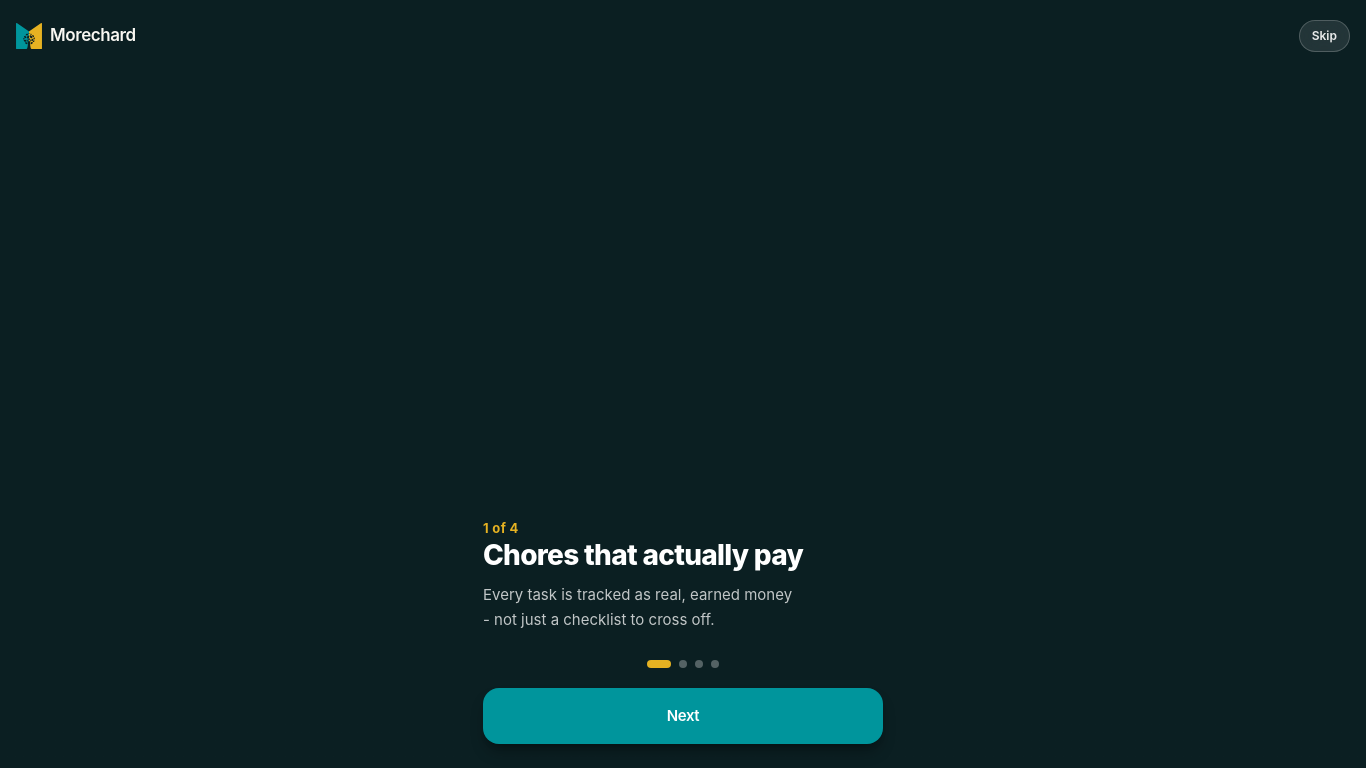
it: OnboardingCarousel › shows "Get Started" instead of "Next" on the final slide
Click the button "Next" at (683, 716), box 483,688 -> 883,744
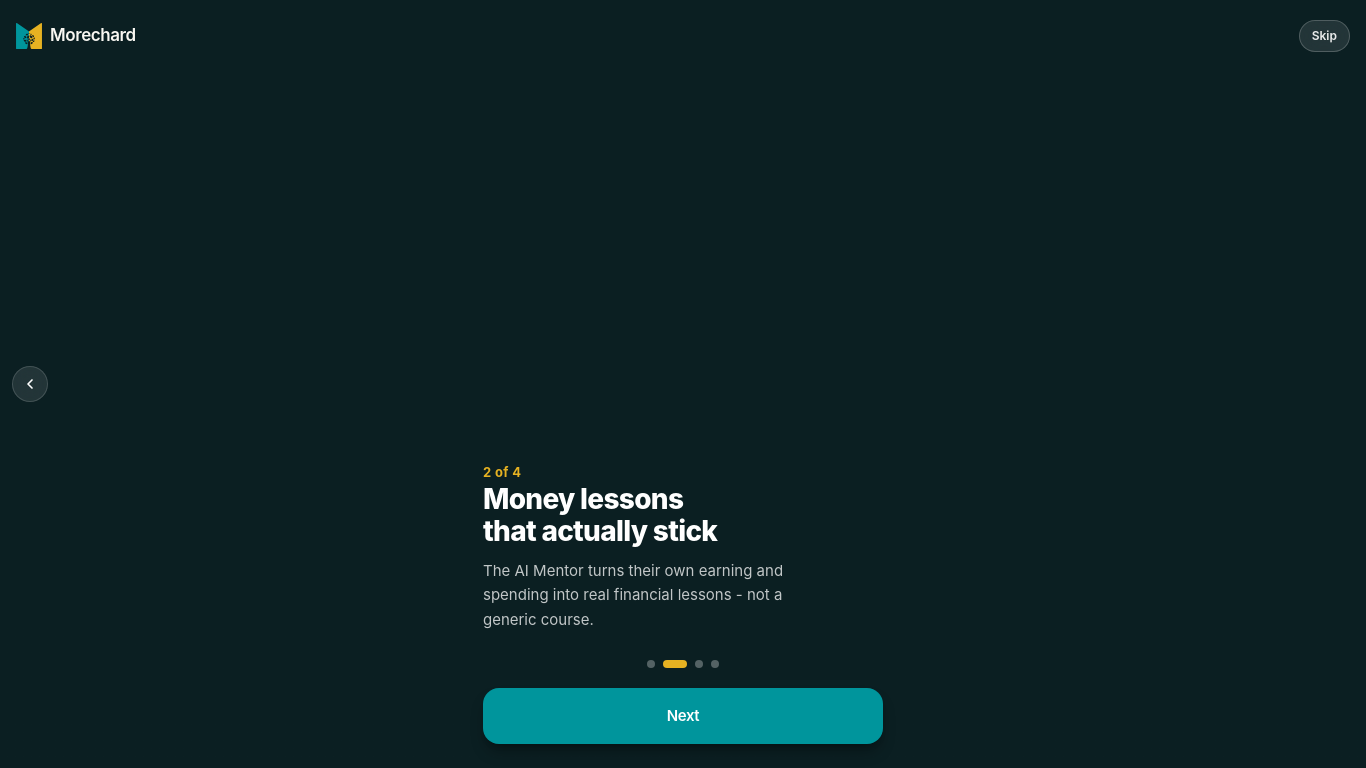
Click the button "Next" at (683, 716), box 483,688 -> 883,744
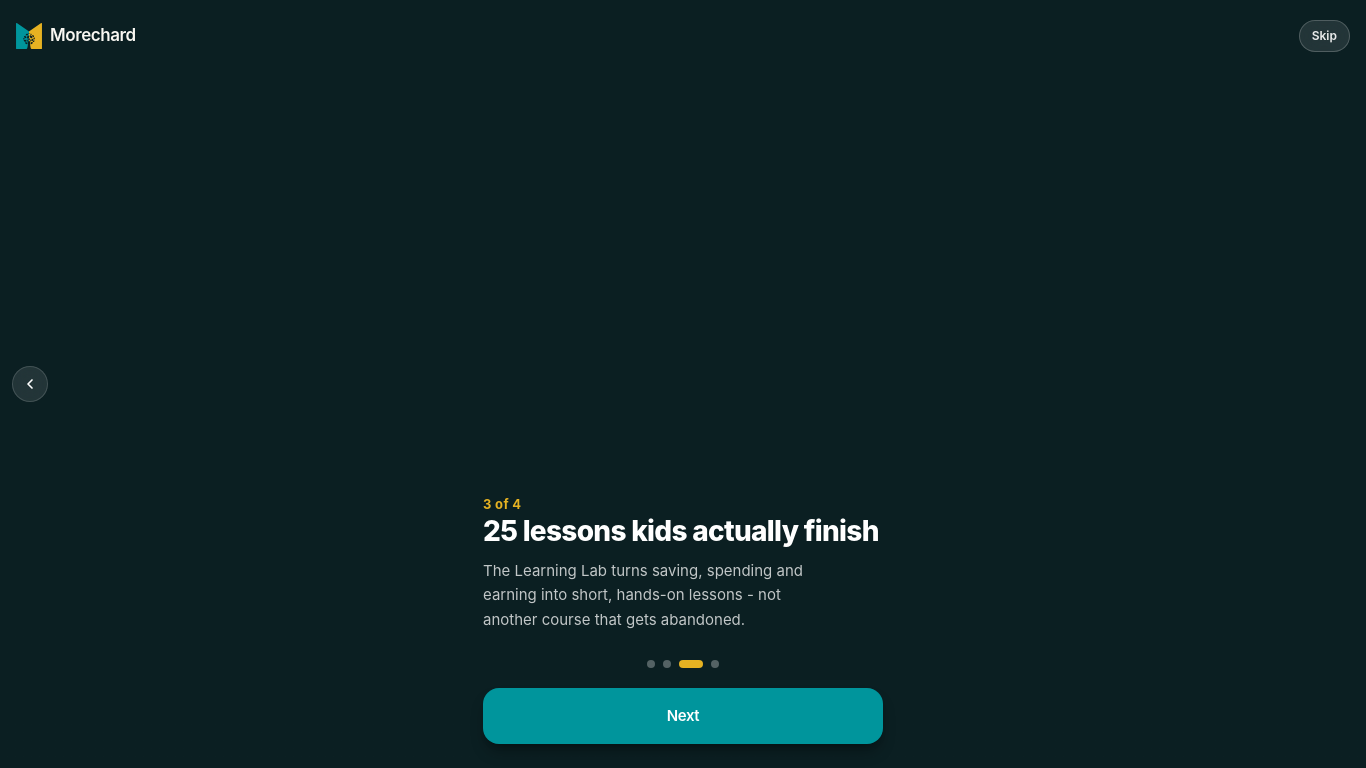
Click the button "Next" at (683, 716), box 483,688 -> 883,744
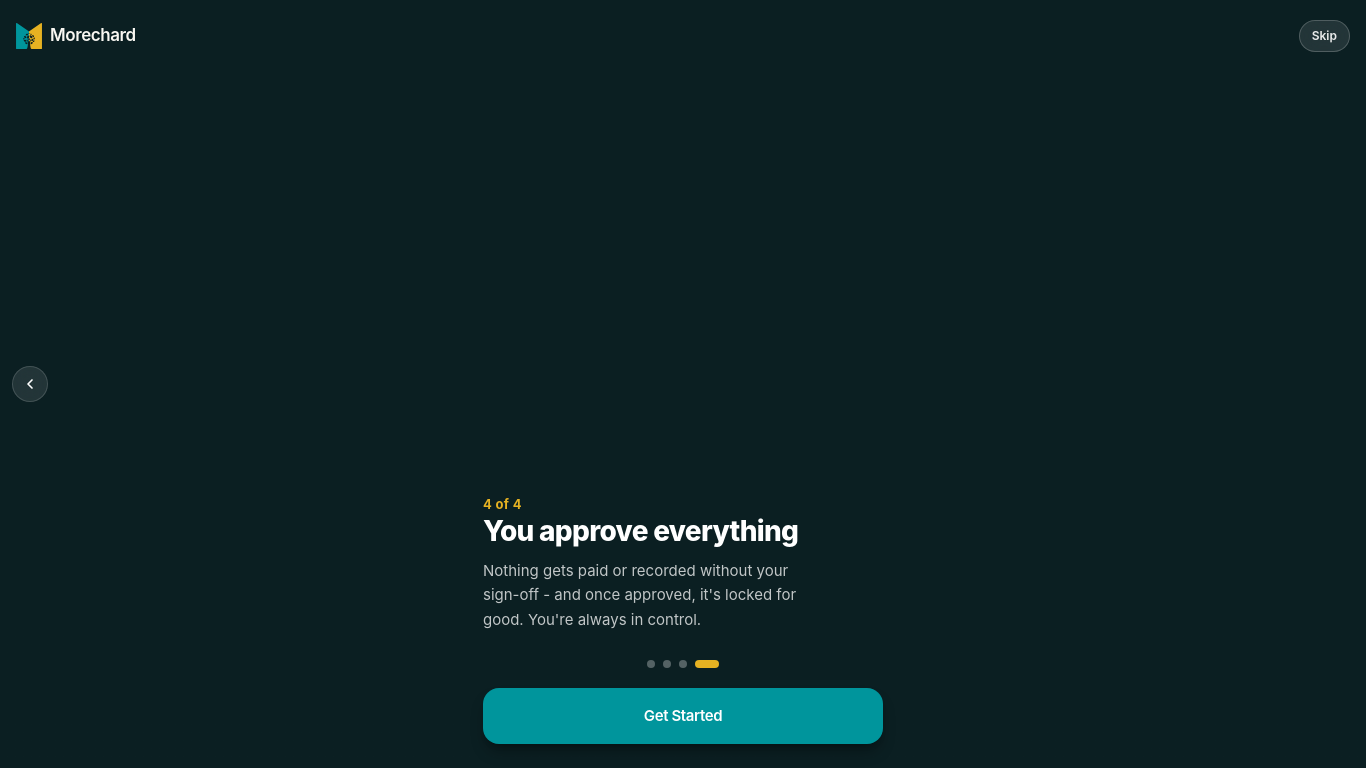
Expected: the heading "You approve everything" is shown, 483,514 -> 798,548
Expected: the button "Get Started" is shown, 483,688 -> 883,744
